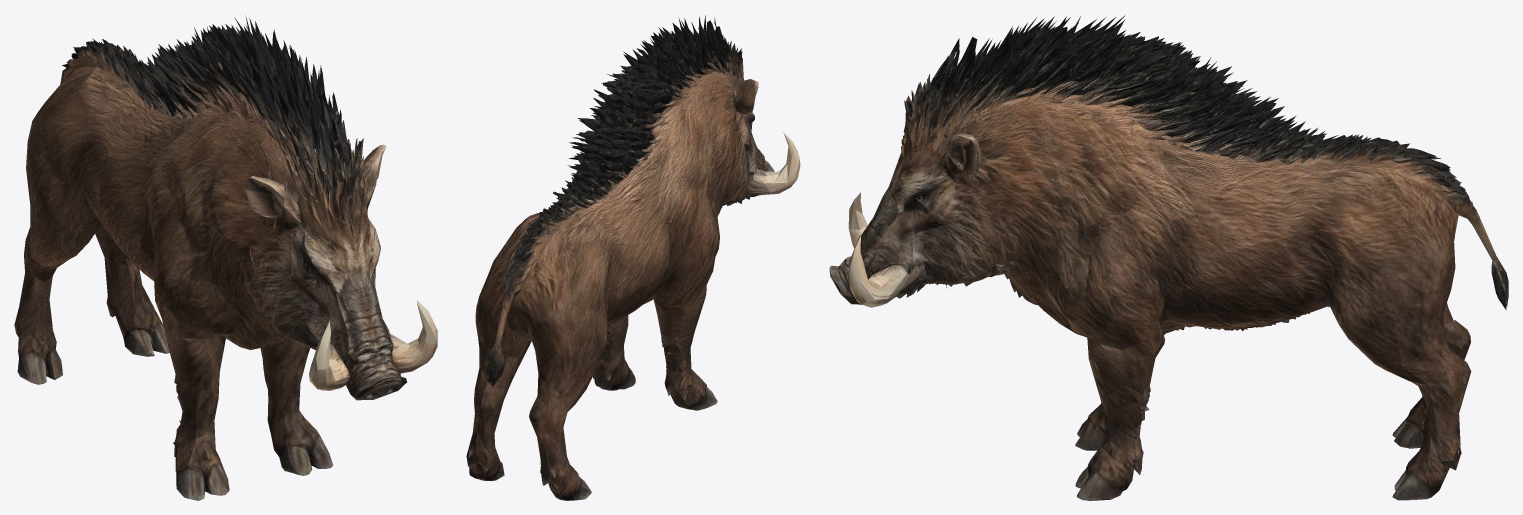
File: tuskhog.glb
3 views of the same model, side by side, from view 1: azimuth 30°, elevation 25°; view 2: azimuth 150°, elevation 25°; view 3: azimuth 270°, elevation 25° (orthographic). The views are drawn at different scales.
Visible parts, largest first — view 1: Mesh_0; view 2: Mesh_0; view 3: Mesh_0.
Boxes of the visible parts, bbox=[...] form: Mesh_0: bbox=[14, 16, 437, 500]; Mesh_0: bbox=[466, 15, 800, 500]; Mesh_0: bbox=[829, 15, 1508, 500].
Bounding box in the file's own units: 0.5351 × 1.38 × 1.89.
Materials: 1 (1 with a texture image).
